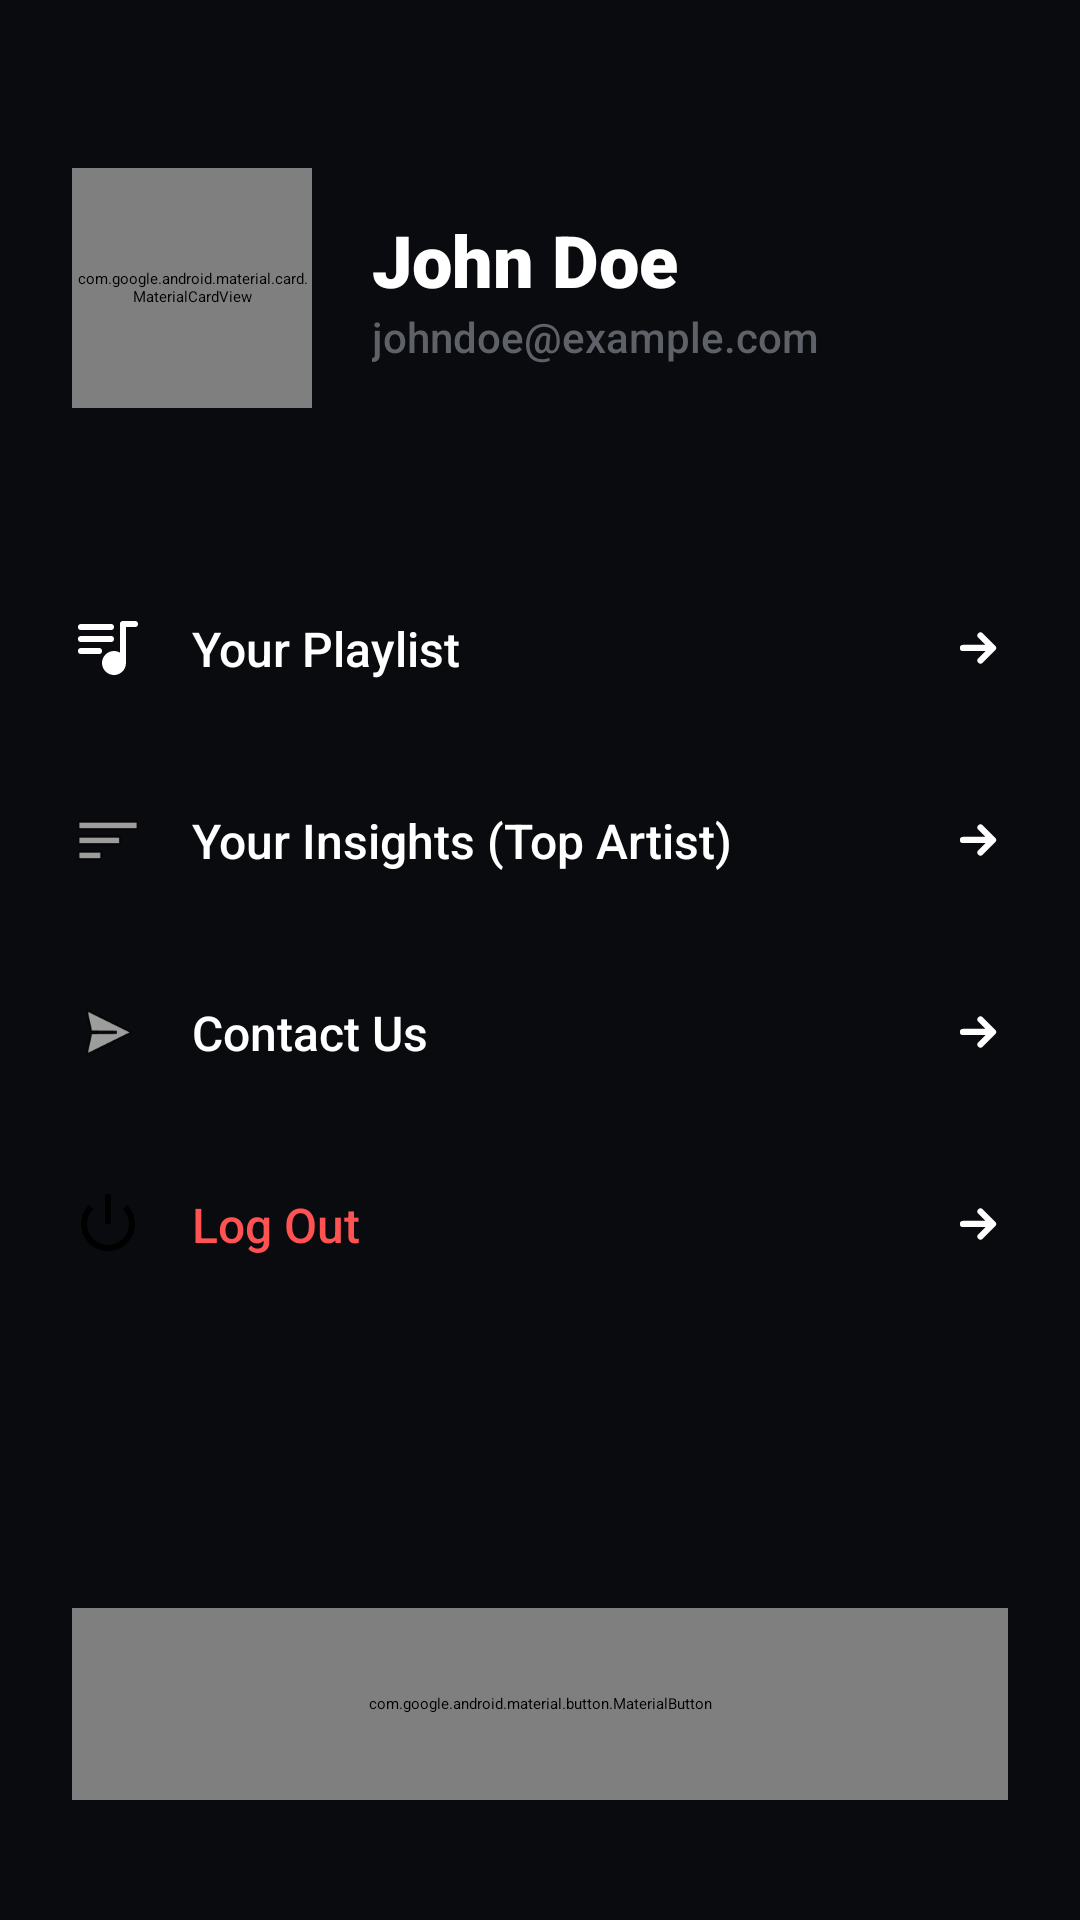

Where to tap for icons on this 1080px x 1920px app screen, as [x,y]:
send: [109,1032]
sort by size: [108,840]
